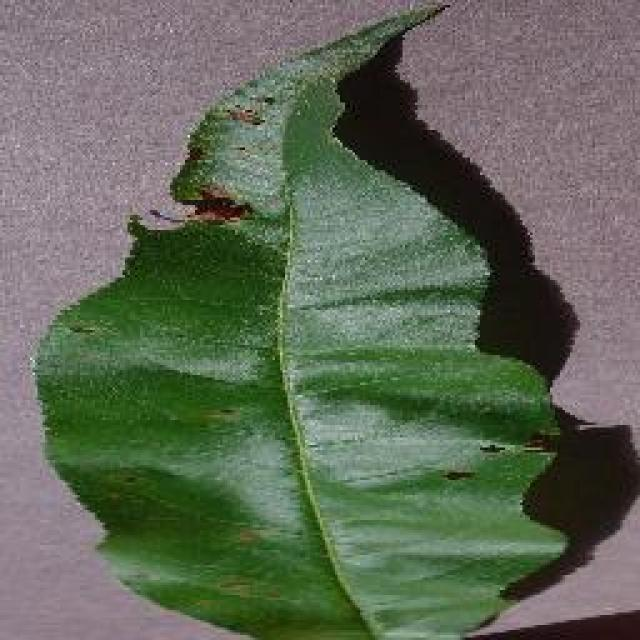Peach_Bacterial_Spot: (135, 40, 328, 245)
